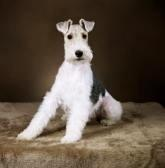wire-haired_fox_terrier: (15, 17, 125, 144)
